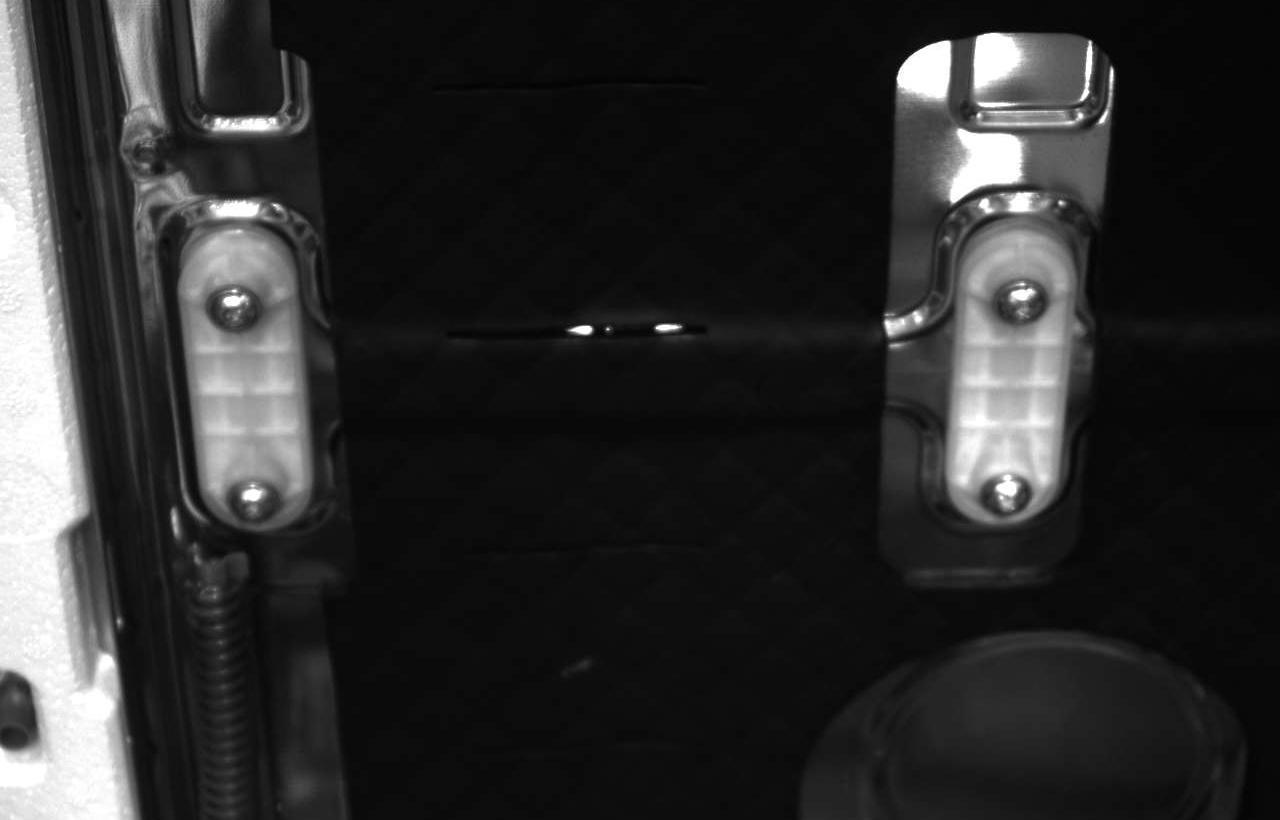vida-ok: (193, 281, 264, 348), (986, 271, 1053, 338), (966, 461, 1031, 529), (221, 474, 287, 532)
